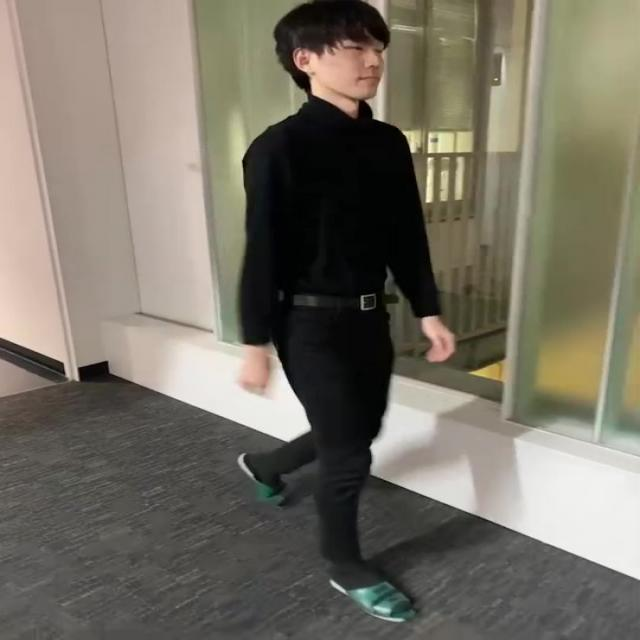direk: (228, 4, 464, 626)
